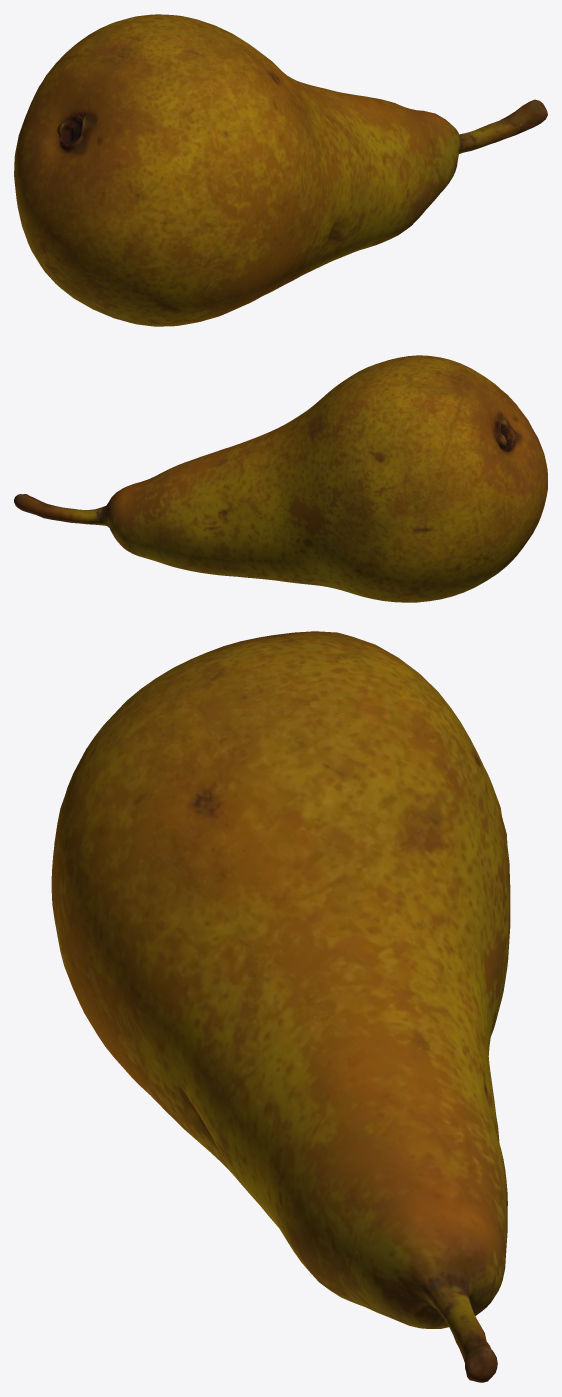
File: pear-0.glb
3 renders of one model, top to bottom at view 1: azimuth 30°, elevation 25°; view 2: azimuth 150°, elevation 25°; view 3: azimuth 270°, elevation 25°, orthographic. The views are drawn at different scales.
Visible parts, largest first — view 1: Object_2; view 2: Object_2; view 3: Object_2.
Boxes of the visible parts, bbox=[...] form: Object_2: bbox=[14, 14, 547, 326]; Object_2: bbox=[14, 355, 547, 602]; Object_2: bbox=[51, 631, 510, 1382].
Bounding box in the file's own units: 30.64 × 14.35 × 13.1.
1 material, 1 textured.
